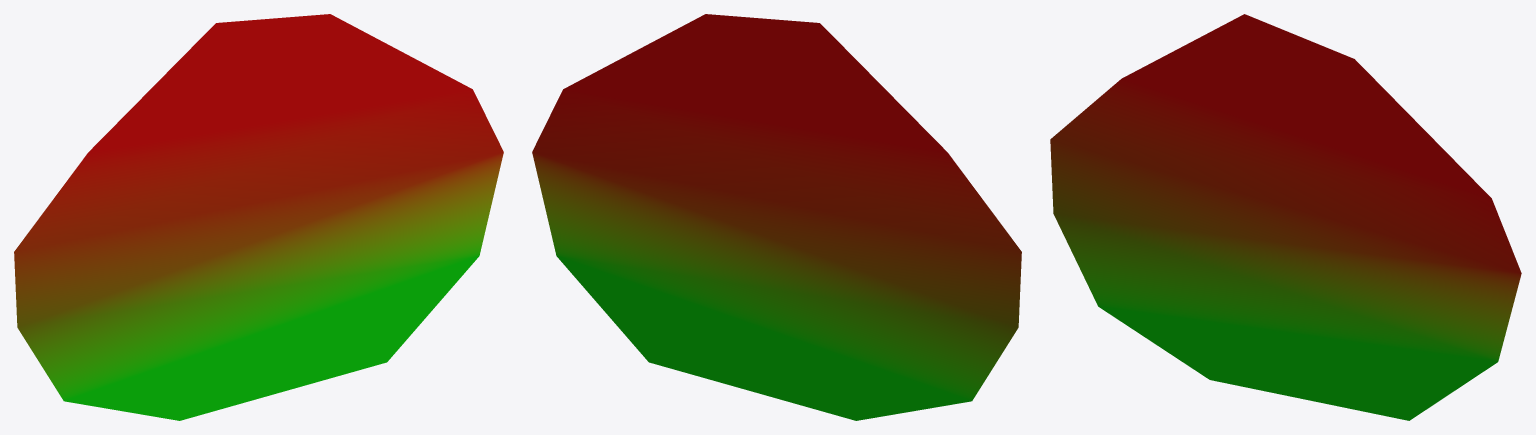
File: Butterfly Weed_LOD4_Var2.fbx
3 views of the same model, side by side, from view 1: azimuth 30°, elevation 25°; view 2: azimuth 150°, elevation 25°; view 3: azimuth 330°, elevation 25° (orthographic). The views are drawn at different scales.
Visible parts, largest first — view 1: _ut83_Var2_LOD4; view 2: _ut83_Var2_LOD4; view 3: _ut83_Var2_LOD4.
Boxes of the visible parts, left/top/right/bottom form: _ut83_Var2_LOD4: left=14, top=14, right=503, bottom=420; _ut83_Var2_LOD4: left=532, top=14, right=1021, bottom=420; _ut83_Var2_LOD4: left=1050, top=14, right=1521, bottom=420.
Size of the model in its own units: 89.13 by 67.66 by 4.03e-06.
